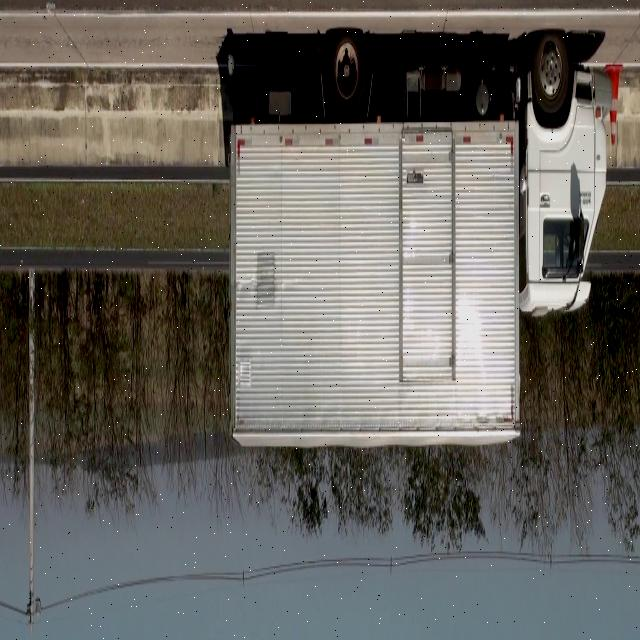-axle: (532, 32, 570, 112), (331, 27, 365, 114)
